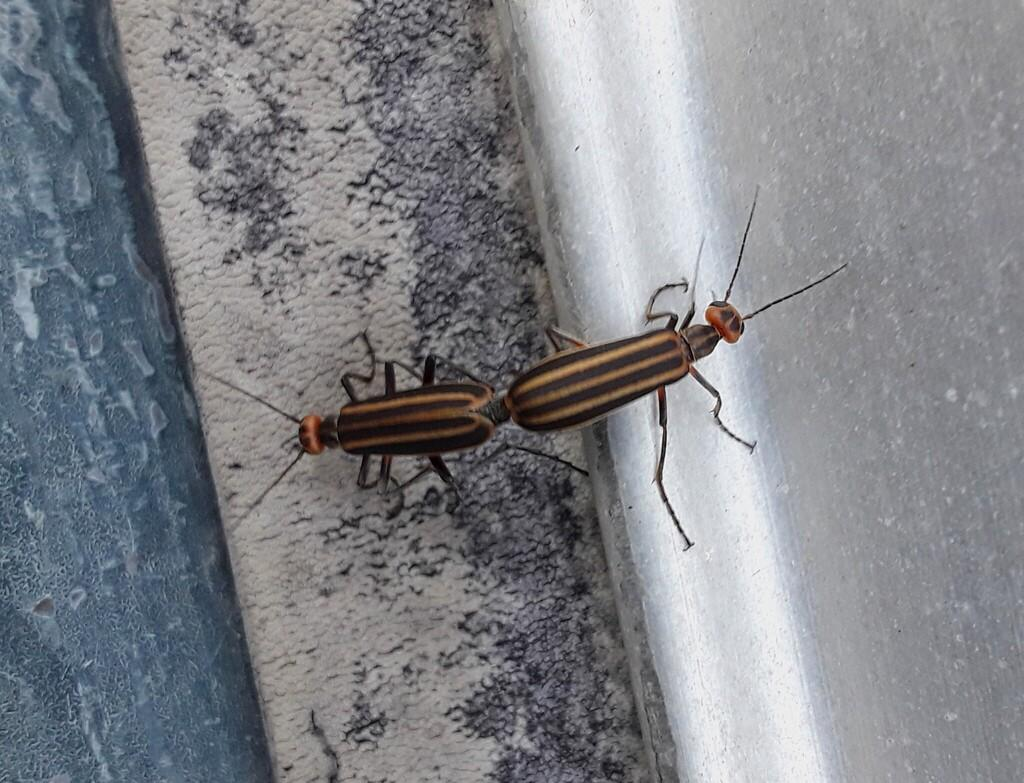blister_beetle: (502, 158, 864, 577), (178, 287, 541, 541)
